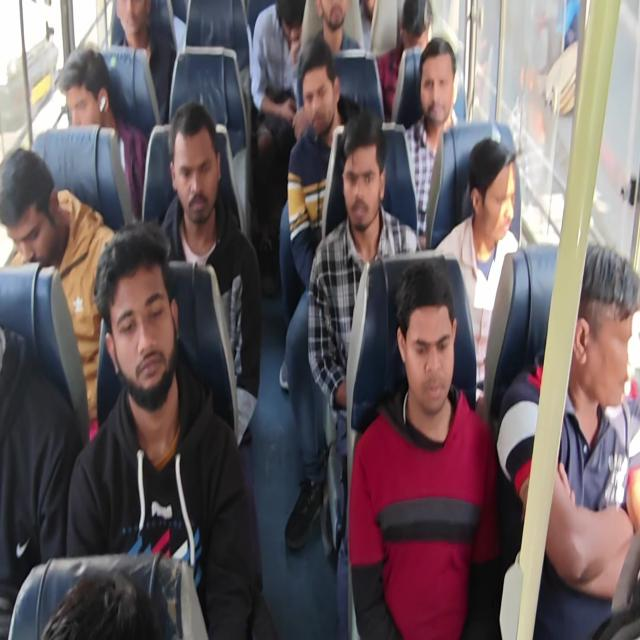person: (99, 243, 196, 404), (571, 222, 640, 416), (0, 142, 68, 282), (43, 49, 121, 137), (166, 103, 225, 215), (402, 290, 458, 399), (459, 144, 515, 252), (342, 134, 384, 255), (295, 71, 348, 140), (414, 43, 454, 127), (388, 0, 435, 57), (105, 0, 153, 51), (269, 0, 305, 49), (317, 0, 349, 35)
